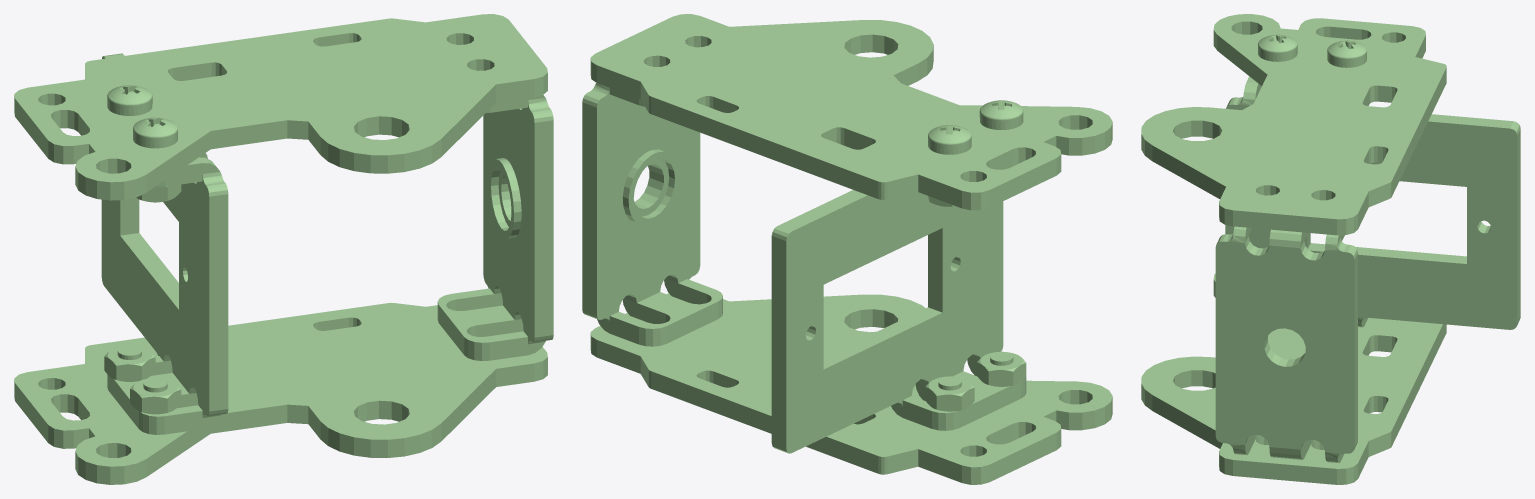
File: Link_Cabe.dae
The picture shows the model from 3 angles, left to right: view 1: azimuth 30°, elevation 25°; view 2: azimuth 150°, elevation 25°; view 3: azimuth 270°, elevation 25°; orthographic projection. The views are drawn at different scales.
Visible parts, largest first — view 1: Link_Cabe; view 2: Link_Cabe; view 3: Link_Cabe.
Part boxes in pixels (left/top/right/bottom): Link_Cabe: left=14, top=14, right=553, bottom=484; Link_Cabe: left=582, top=14, right=1112, bottom=484; Link_Cabe: left=1141, top=14, right=1520, bottom=484.
Bounding box in the file's own units: 0.069 × 0.0535 × 0.0461.
